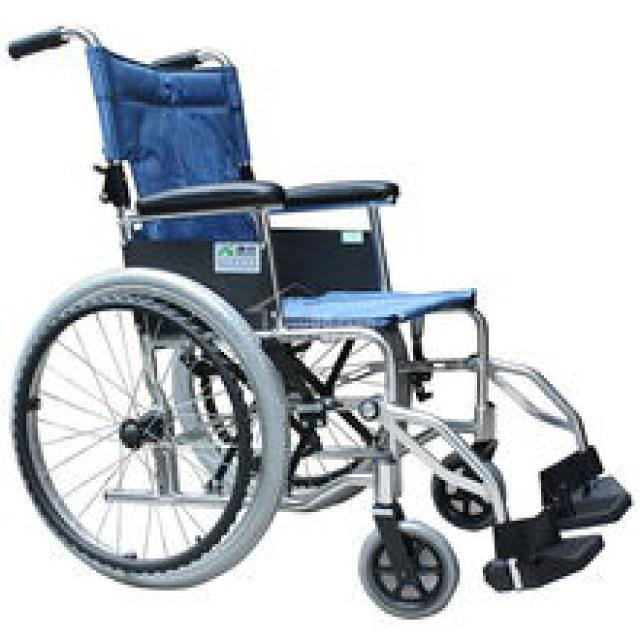wheelchair: (2, 21, 634, 632)
